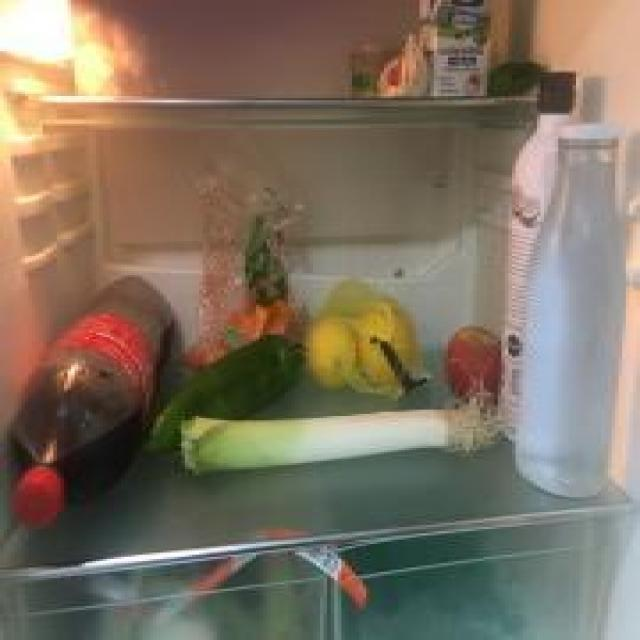apple: (448, 322, 501, 399)
bell_pepper: (144, 335, 300, 461)
garlic: (381, 30, 434, 100)
heavy_cream: (426, 0, 494, 100)
leek: (179, 410, 482, 466)
lemon: (310, 318, 356, 388)
